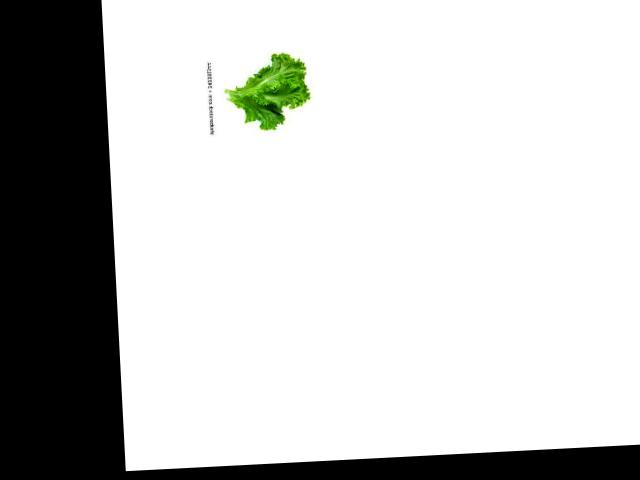lettuce: (217, 52, 313, 134)
